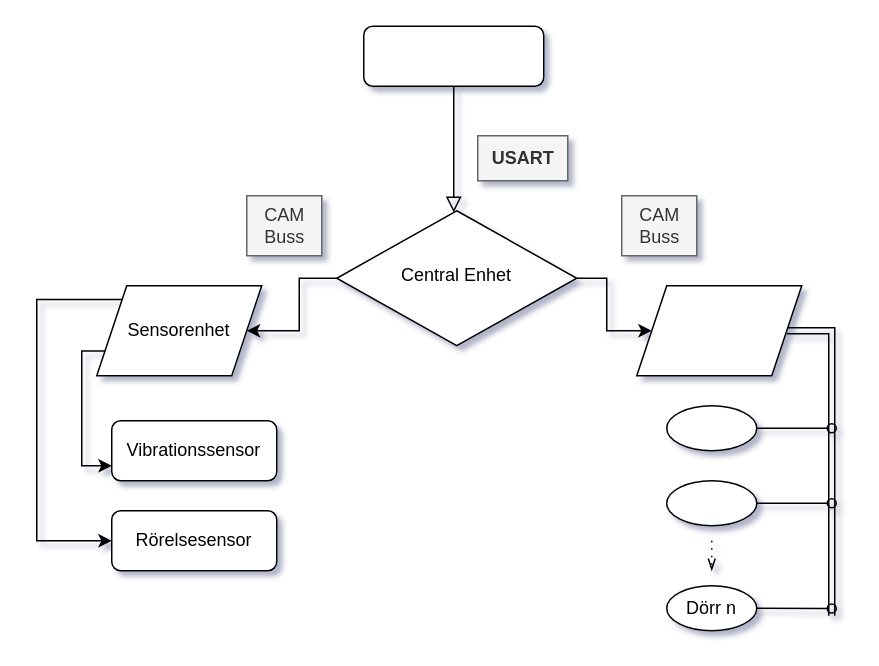
This 879x666 diagram has some shape labels left out. The box of each missing label's shape, as (x1, y1, x2, y2) in pixels:
Dörr 1: (665, 404, 757, 451)
Dörr 2: (665, 479, 757, 526)
Dörrenhet: (635, 284, 802, 376)
PC: (362, 25, 544, 86)
